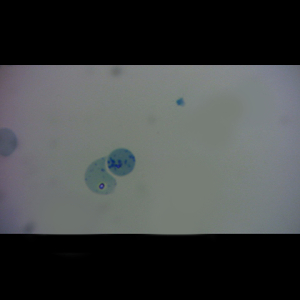aggregate reticulocyte: (106, 147, 137, 177)
punctate reticulocyte: (83, 155, 119, 196)
